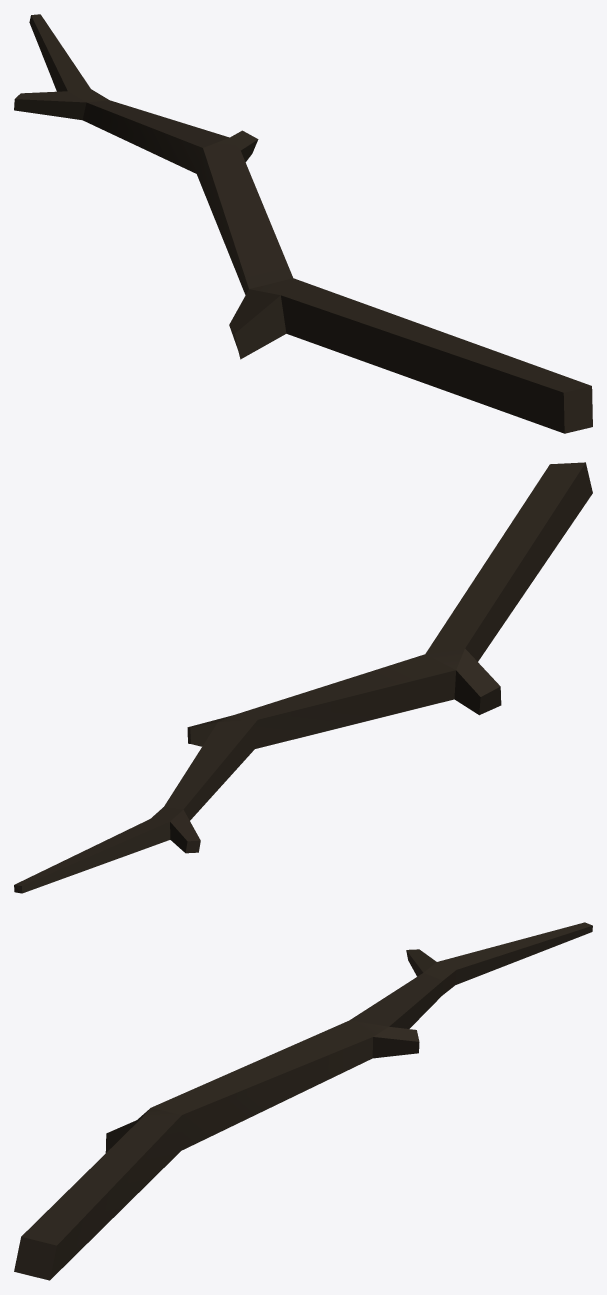
File: synty-tree-twig-05.gltf
The picture shows the model from 3 angles, top to bottom: view 1: azimuth 30°, elevation 25°; view 2: azimuth 150°, elevation 25°; view 3: azimuth 330°, elevation 25°; orthographic projection. The views are drawn at different scales.
Parts seen in each view (by area): view 1: SM_Tree_Twig_05; view 2: SM_Tree_Twig_05; view 3: SM_Tree_Twig_05.
Part boxes in pixels (x1=…): SM_Tree_Twig_05: x1=14, y1=14, x2=592, y2=433; SM_Tree_Twig_05: x1=14, y1=462, x2=592, y2=893; SM_Tree_Twig_05: x1=14, y1=922, x2=592, y2=1280.
Size of the model in its own units: 0.1627 by 0.0795 by 0.8836.
1 material, 1 textured.
